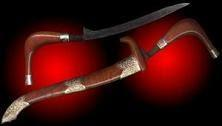espada: (1, 19, 218, 122), (25, 3, 189, 84)
